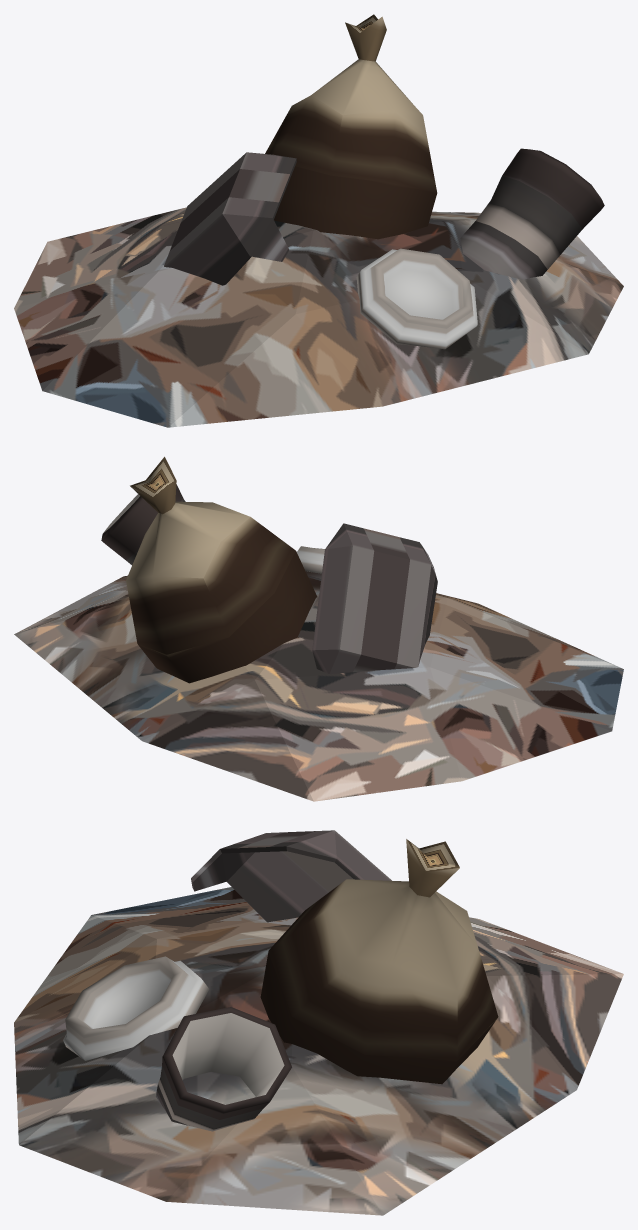
The model's file is Trash_pile_001.glb.
The picture shows the model from 3 angles, top to bottom: view 1: azimuth 30°, elevation 25°; view 2: azimuth 150°, elevation 25°; view 3: azimuth 270°, elevation 25°; orthographic projection. The views are drawn at different scales.
Parts seen in each view (by area): view 1: Trash_pile_001; view 2: Trash_pile_001; view 3: Trash_pile_001.
Part boxes in pixels (x1,y1,x2,y2): Trash_pile_001: (14, 14, 623, 427); Trash_pile_001: (14, 456, 623, 801); Trash_pile_001: (14, 830, 623, 1215).
Bounding box in the file's own units: 0.6073 × 0.2602 × 0.4687.
1 material, 1 textured.
